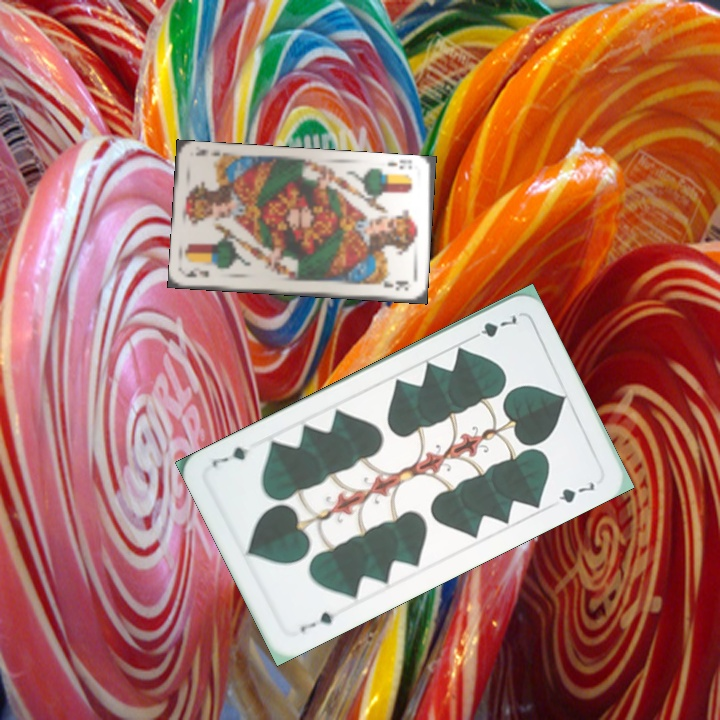EK: (383, 158, 415, 172), (183, 266, 212, 281)
G7: (465, 311, 519, 343), (296, 607, 344, 635)
